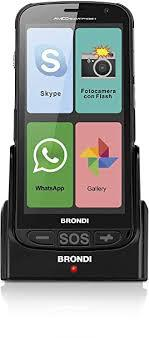Smartphone: (15, 6, 137, 248)
